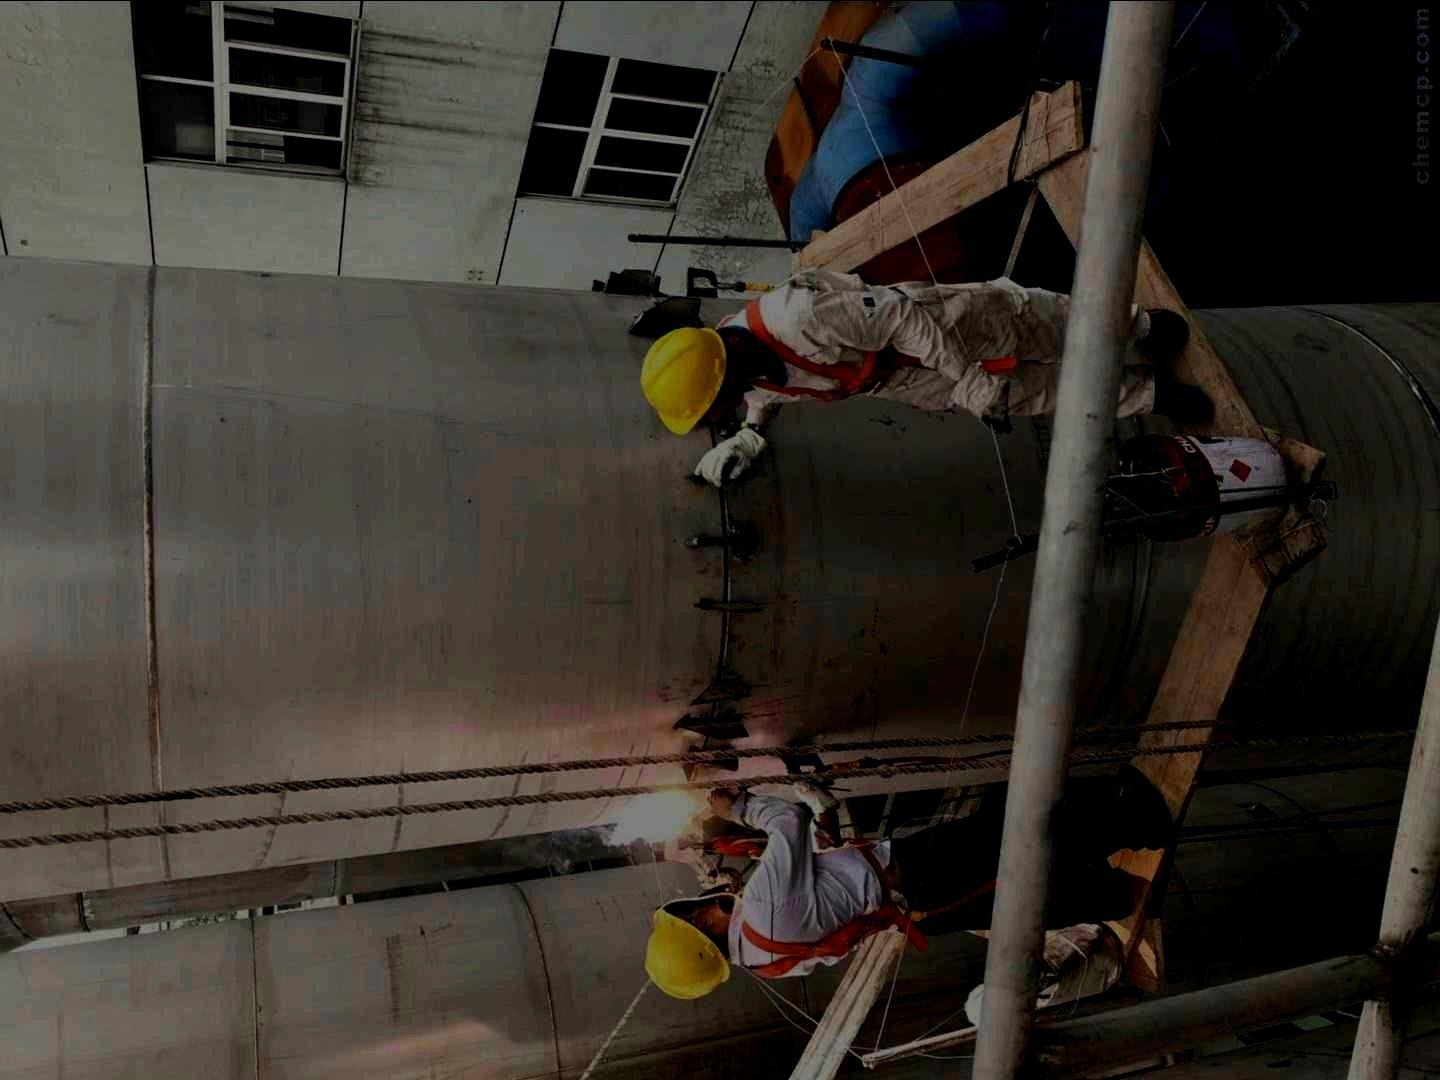helmet: (639, 326, 743, 437), (642, 897, 735, 1001)
